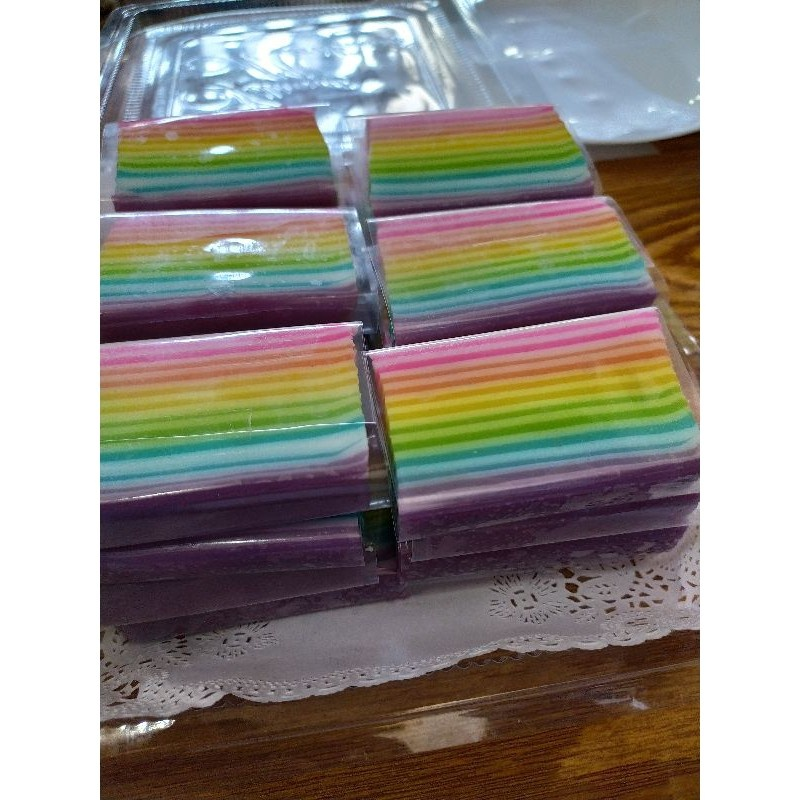kue_lapis_pelangi: (365, 307, 699, 542), (85, 319, 370, 539), (373, 197, 656, 345), (93, 203, 356, 326), (361, 107, 594, 217), (108, 103, 337, 214)
